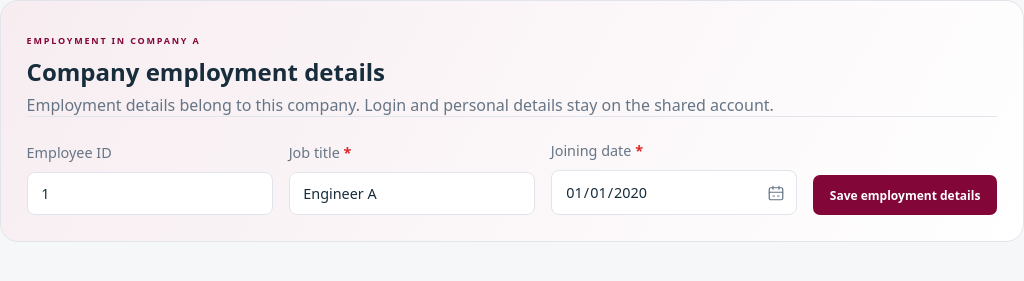
Test case: edits only the selected membership and includes its concurrency version
Replace the text in the field labelled "Job title" with " Lead A ": (412, 194) [289,172,535,215]
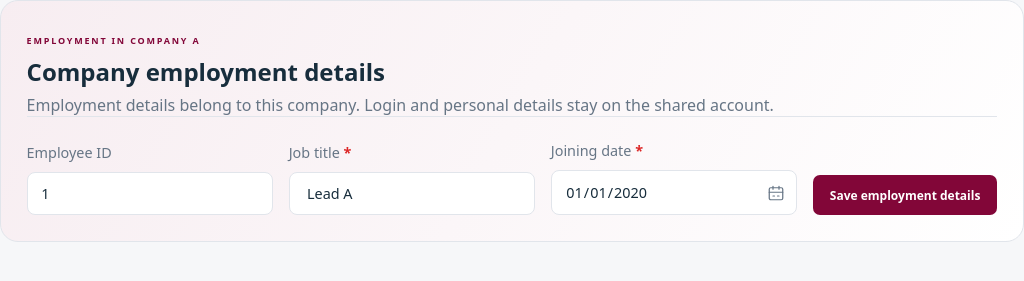
Click the button "Save employment details": (905, 195) [813,175,997,215]
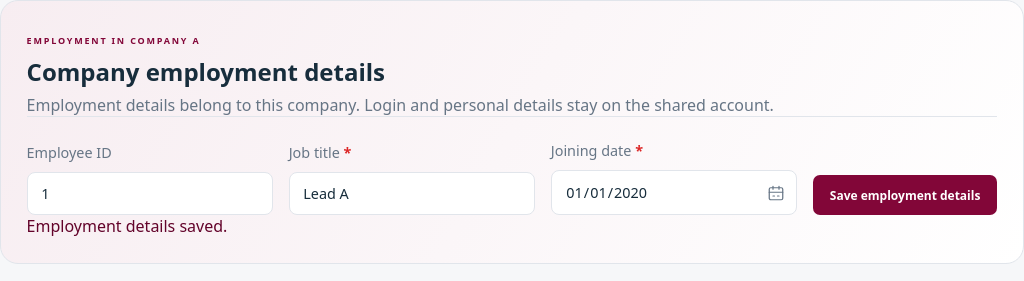
Result: the text "Employment details saved." is shown at [27,215,227,237]
